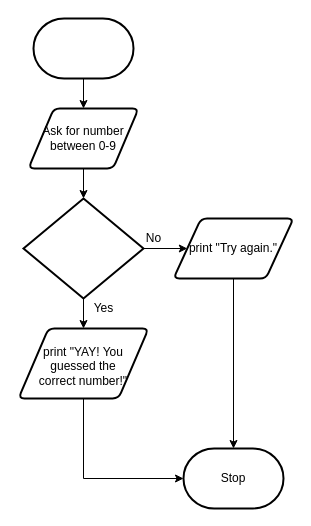
The diagram is 311 pixels wide and 526 high, and some of its shapes have lost their labels. The box of each missing label's shape, as (x1, y1, x2, y2) in pixels:
if number == random_number: (22, 197, 144, 299)
Start: (32, 17, 134, 79)
